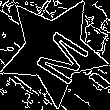M_NW: (21, 18, 86, 84)
